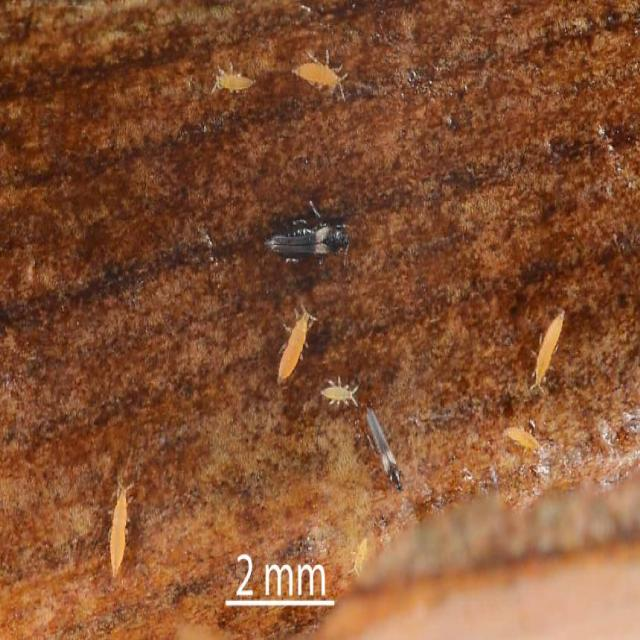Thrip-Adult-: (254, 197, 360, 273), (357, 402, 412, 501)
Thrip-Larva-: (103, 467, 146, 592), (269, 296, 326, 390), (287, 37, 354, 111), (525, 303, 571, 401), (496, 414, 548, 462), (212, 59, 261, 101), (316, 373, 363, 414)
